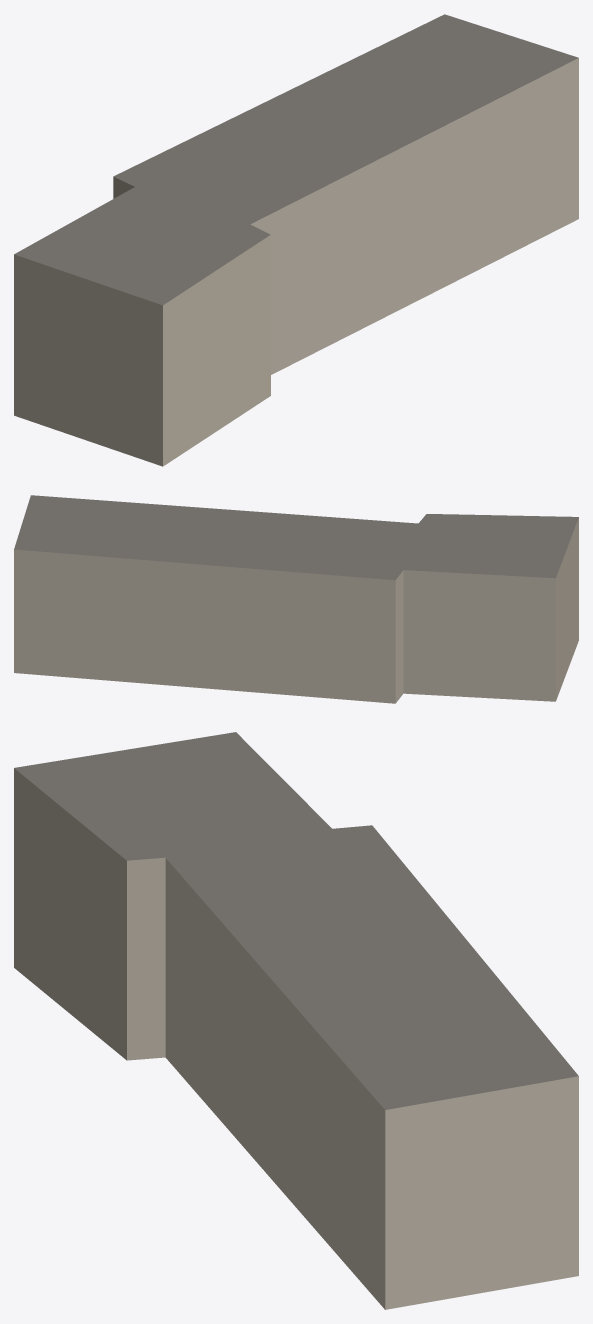
The picture shows the model from 3 angles, top to bottom: view 1: azimuth 30°, elevation 25°; view 2: azimuth 150°, elevation 25°; view 3: azimuth 270°, elevation 25°; orthographic projection. The views are drawn at different scales.
Visible parts, largest first — view 1: HP-w1512800284; view 2: HP-w1512800284; view 3: HP-w1512800284.
Boxes of the visible parts, x1=… form: HP-w1512800284: x1=14, y1=14, x2=578, y2=466; HP-w1512800284: x1=14, y1=495, x2=578, y2=703; HP-w1512800284: x1=14, y1=732, x2=578, y2=1309.
Size of the model in its own units: 73.04 by 18 by 46.12.
